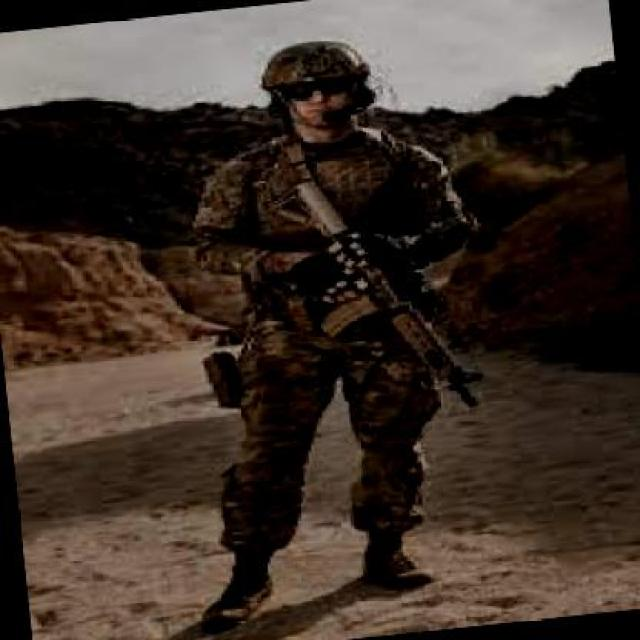MIL_Pax: (160, 22, 511, 610)
